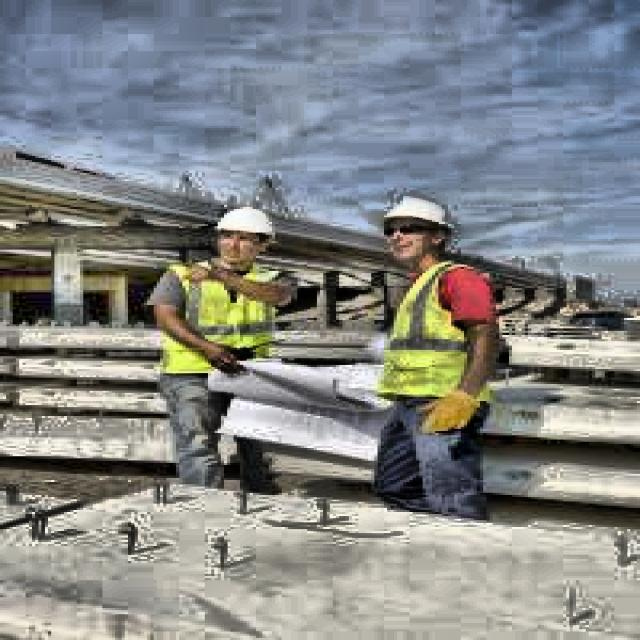helmet: (374, 190, 464, 271), (205, 202, 288, 266)
